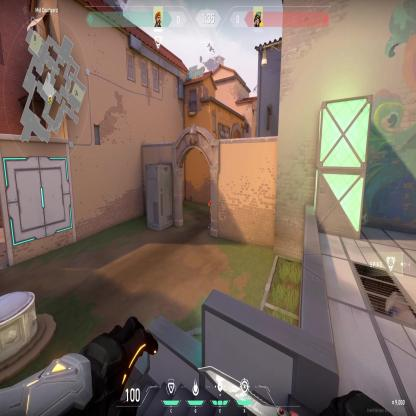enemy: (208, 199, 210, 229)
